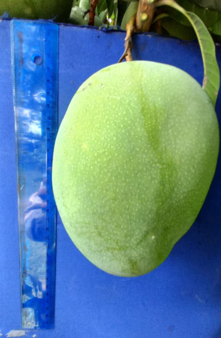Mango-sano: (52, 13, 219, 276)
